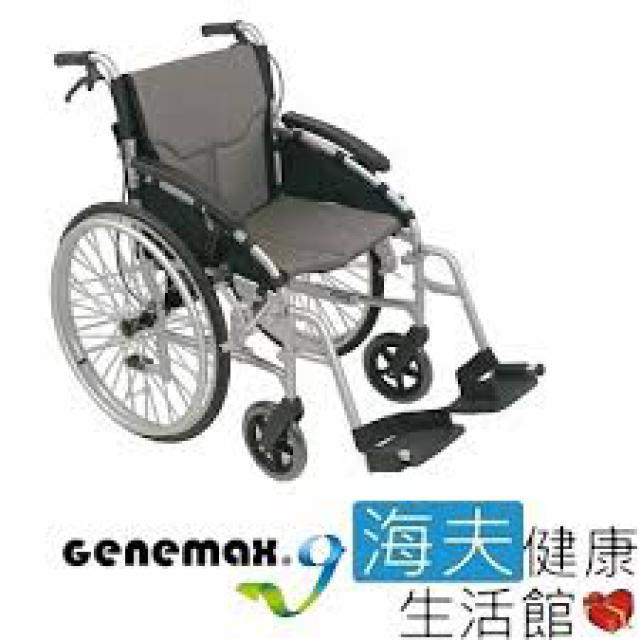wheelchair: (20, 14, 555, 484)
